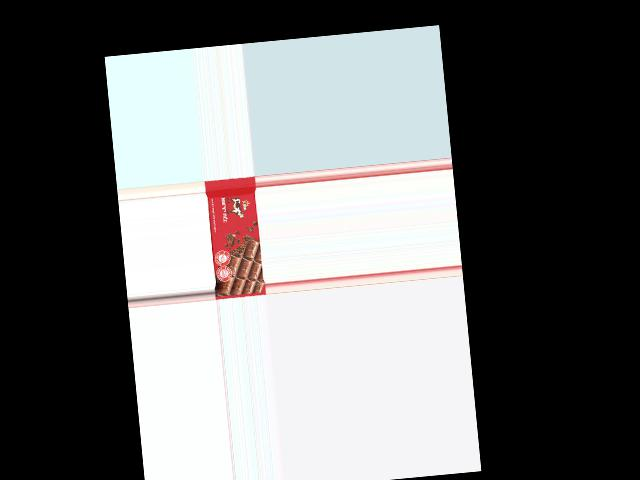chocolate: (204, 175, 265, 298)
